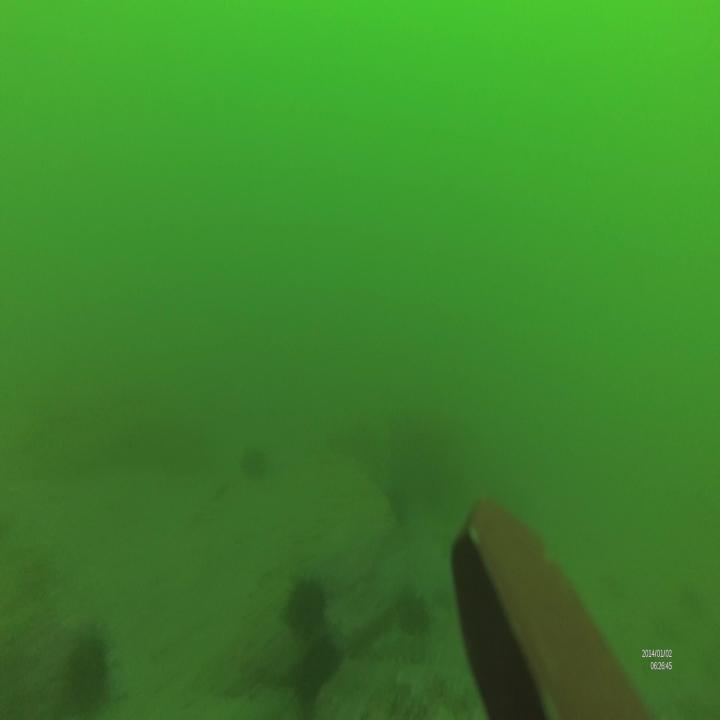echinus: (58, 622, 113, 720), (299, 633, 340, 712), (284, 573, 330, 636), (397, 593, 432, 645)
